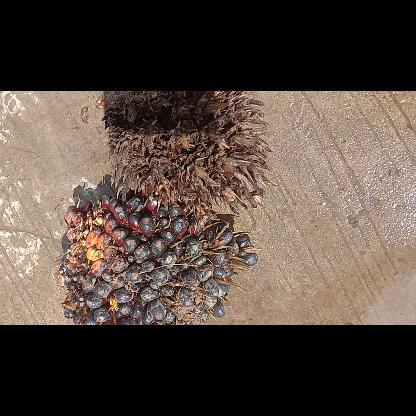Janjang kosong: (102, 91, 274, 217)
TBS mentah: (54, 196, 260, 324)
